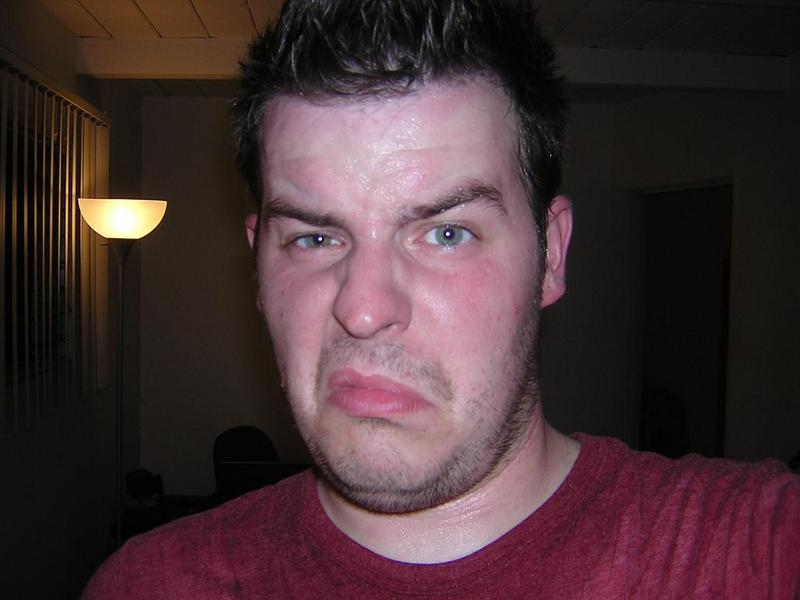person: (96, 7, 800, 600)
